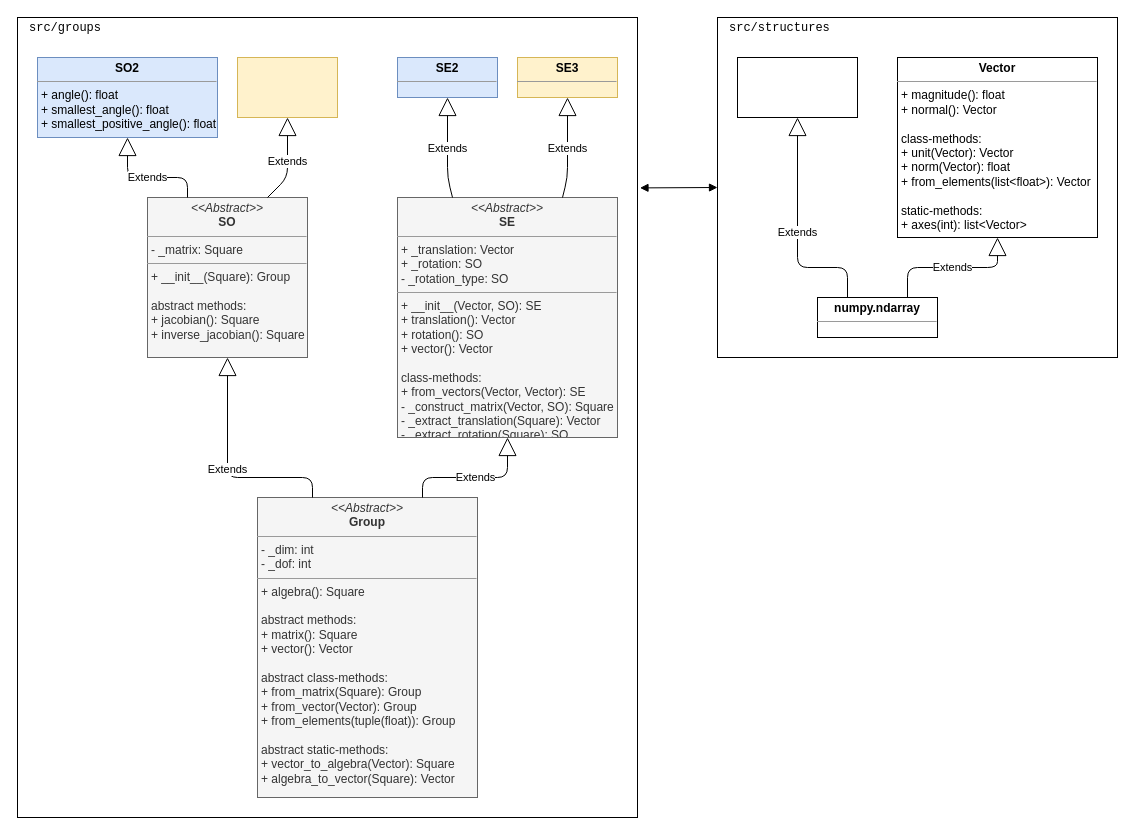
Image size: 1135x835. Some labels were removed from this diagram. Here are the shapes that lost their labels. From the top down, the centre of each, then its label:
At (x=287, y=87): "SO3 + angle(): float".
At (x=797, y=87): "Square + inverse(): Square".
